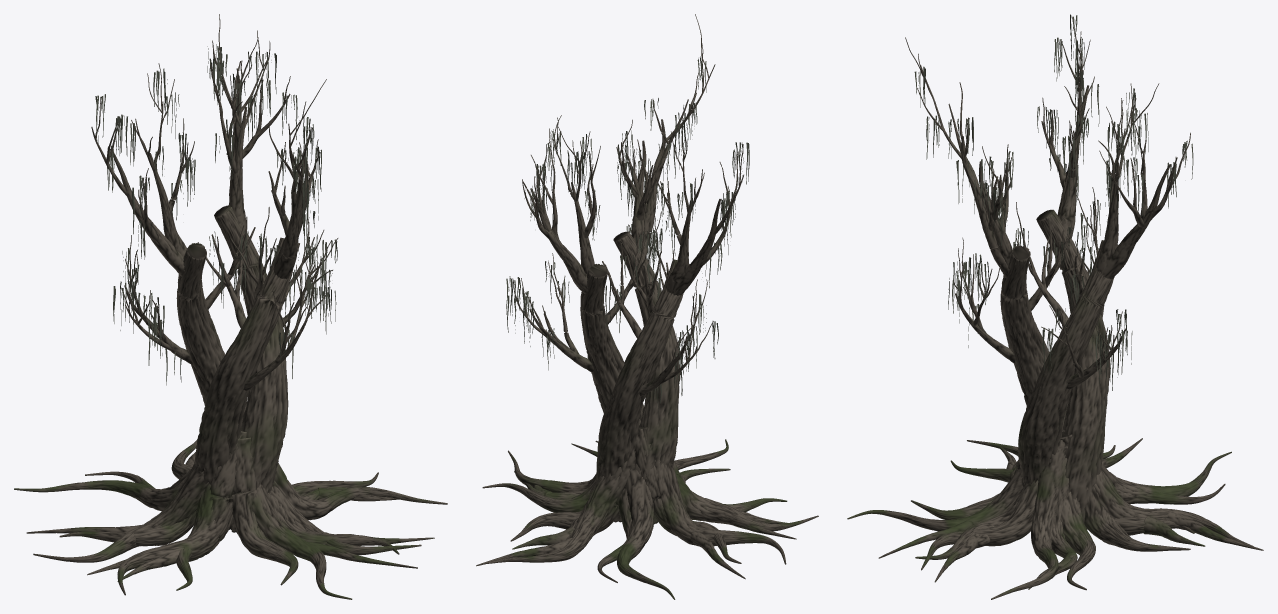
Rendered from dead-oak.glb.
3 views of the same model, side by side, from view 1: azimuth 30°, elevation 25°; view 2: azimuth 150°, elevation 25°; view 3: azimuth 270°, elevation 25° (orthographic). The views are drawn at different scales.
Visible parts, largest first — view 1: Dead oak | gnarled trunk, roots, branches, moss; view 2: Dead oak | gnarled trunk, roots, branches, moss; view 3: Dead oak | gnarled trunk, roots, branches, moss.
Part boxes in pixels (bbox=[...]): Dead oak | gnarled trunk, roots, branches, moss: bbox=[14, 14, 447, 599]; Dead oak | gnarled trunk, roots, branches, moss: bbox=[476, 14, 818, 599]; Dead oak | gnarled trunk, roots, branches, moss: bbox=[847, 14, 1263, 599].
Size of the model in its own units: 6.03 by 8.09 by 6.16.
